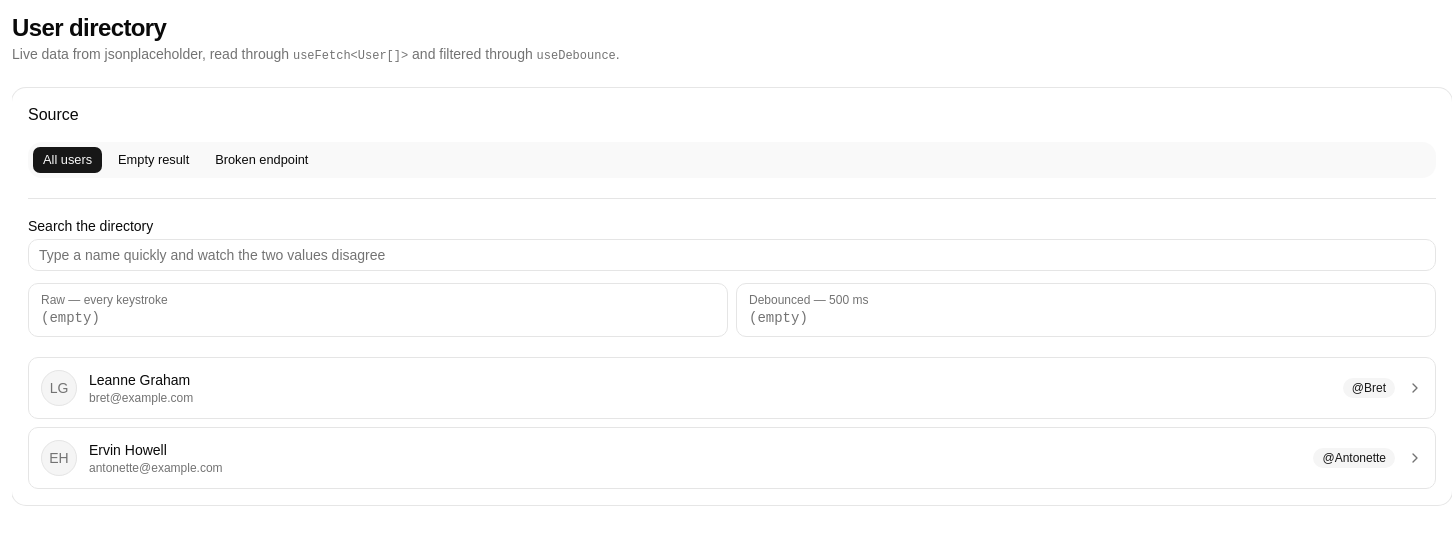
Test: UsersPage › says so when the filter matches nobody, without losing the data
Expected: the text "Leanne Graham" is shown, [89, 372, 190, 388]
Step 1. Type "zzz" into the search field labelled "Search the directory" → (732, 255), box [28, 239, 1436, 271]
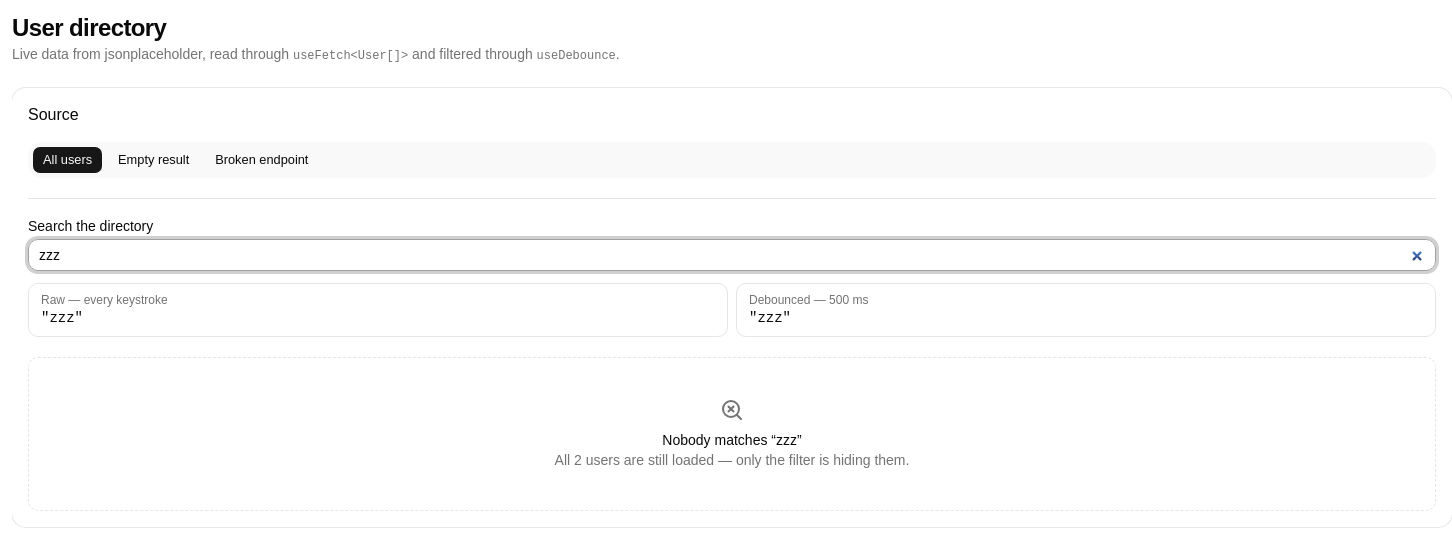
Expected: the text "Nobody matches “zzz”" is shown, [662, 432, 802, 448]
Expected: the link "Leanne Graham" is gone
Expected: the text "All 2 users are still loaded" is shown, [555, 452, 910, 468]
